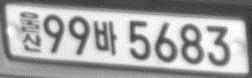3: (206, 25, 231, 67)
5: (129, 20, 150, 60)
6: (154, 21, 178, 63)
8: (179, 23, 204, 64)
9: (67, 14, 90, 55), (42, 13, 64, 53)
바: (93, 19, 117, 55)
울산_V: (19, 10, 42, 52)
